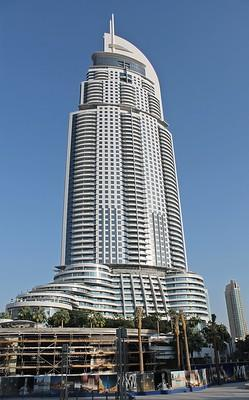building: (59, 30, 193, 339)
